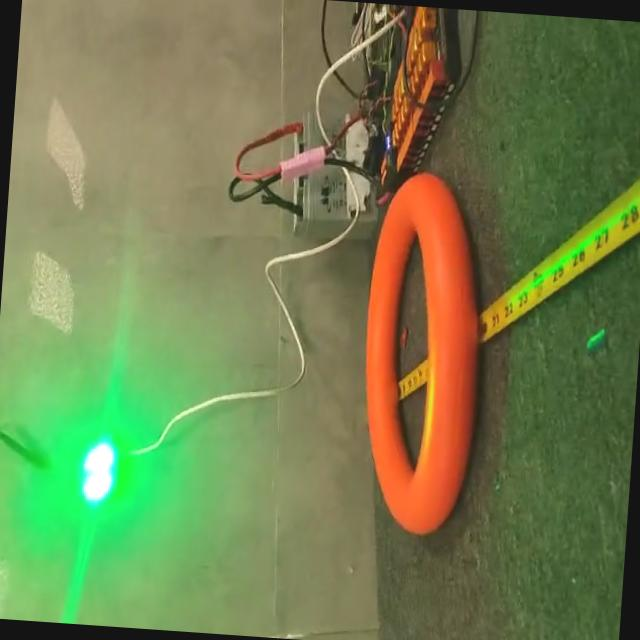note: (349, 165, 496, 546)
